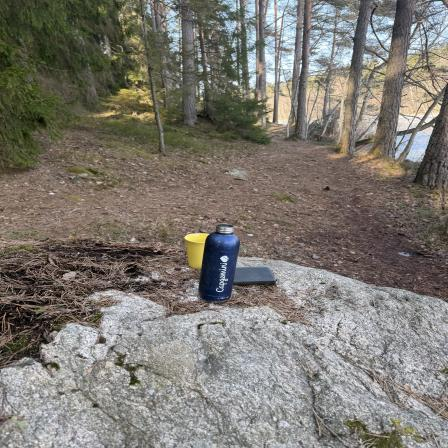blue_bottle: (205, 222, 237, 304)
phone: (204, 265, 283, 288)
yellow_cup: (183, 229, 213, 267)
